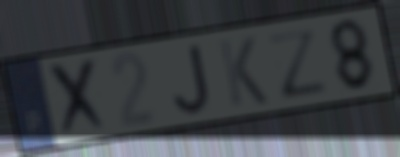2: (109, 49, 159, 132)
8: (328, 16, 377, 94)
J: (171, 42, 214, 116)
K: (216, 35, 271, 109)
X: (45, 54, 113, 141)
Z: (264, 25, 330, 101)
